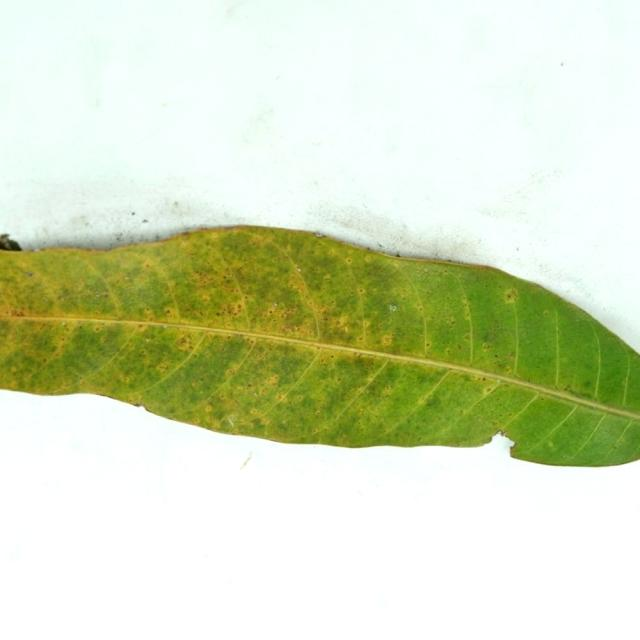Mango: (0, 227, 639, 465)
Powdery_Mildew: (206, 287, 250, 322), (572, 387, 612, 407), (553, 308, 561, 385), (19, 384, 74, 395), (502, 287, 519, 307), (275, 307, 297, 321), (505, 439, 519, 456), (335, 237, 355, 247), (225, 4, 239, 18), (264, 374, 279, 386), (9, 308, 29, 317), (424, 396, 438, 408), (226, 413, 237, 428), (380, 335, 393, 347), (276, 393, 286, 402), (94, 292, 108, 298), (546, 440, 555, 449), (203, 405, 213, 413), (382, 386, 392, 394), (498, 429, 508, 437), (249, 409, 260, 416), (446, 319, 455, 327), (158, 363, 167, 371), (482, 342, 492, 349), (143, 308, 153, 315), (0, 233, 10, 240), (323, 274, 331, 282), (339, 434, 347, 442), (583, 380, 592, 387), (454, 441, 464, 447), (542, 309, 550, 316), (179, 338, 187, 345), (10, 366, 18, 373), (115, 233, 122, 240), (343, 325, 349, 333), (57, 294, 66, 299), (345, 258, 352, 264), (358, 288, 365, 294), (417, 304, 423, 311), (485, 388, 492, 394), (389, 305, 396, 311), (25, 272, 33, 277), (445, 348, 451, 354), (315, 410, 321, 416), (312, 428, 318, 434), (564, 385, 570, 391), (491, 421, 497, 427), (475, 415, 481, 421), (139, 350, 146, 355), (94, 326, 101, 331), (292, 326, 299, 331), (507, 354, 514, 359), (366, 245, 373, 250), (133, 403, 141, 407), (165, 309, 171, 314), (223, 275, 229, 280), (322, 317, 328, 322), (138, 324, 144, 329), (377, 243, 383, 248), (33, 248, 40, 252), (425, 342, 430, 347), (79, 379, 84, 384), (614, 444, 619, 449), (78, 321, 83, 326), (142, 219, 148, 223), (215, 312, 220, 316), (42, 358, 47, 362), (330, 353, 334, 358), (353, 352, 358, 356), (247, 383, 252, 387), (494, 354, 499, 358), (131, 211, 136, 215), (396, 253, 401, 257), (447, 259, 453, 262), (482, 377, 486, 381), (200, 378, 204, 382), (539, 397, 543, 401), (124, 276, 128, 280), (61, 322, 65, 326), (274, 303, 278, 307), (297, 268, 301, 272), (146, 338, 150, 342), (563, 454, 567, 458), (525, 441, 529, 445), (560, 62, 564, 66), (602, 308, 606, 312), (162, 325, 167, 328), (496, 380, 500, 383), (516, 247, 519, 251), (254, 392, 257, 396)
